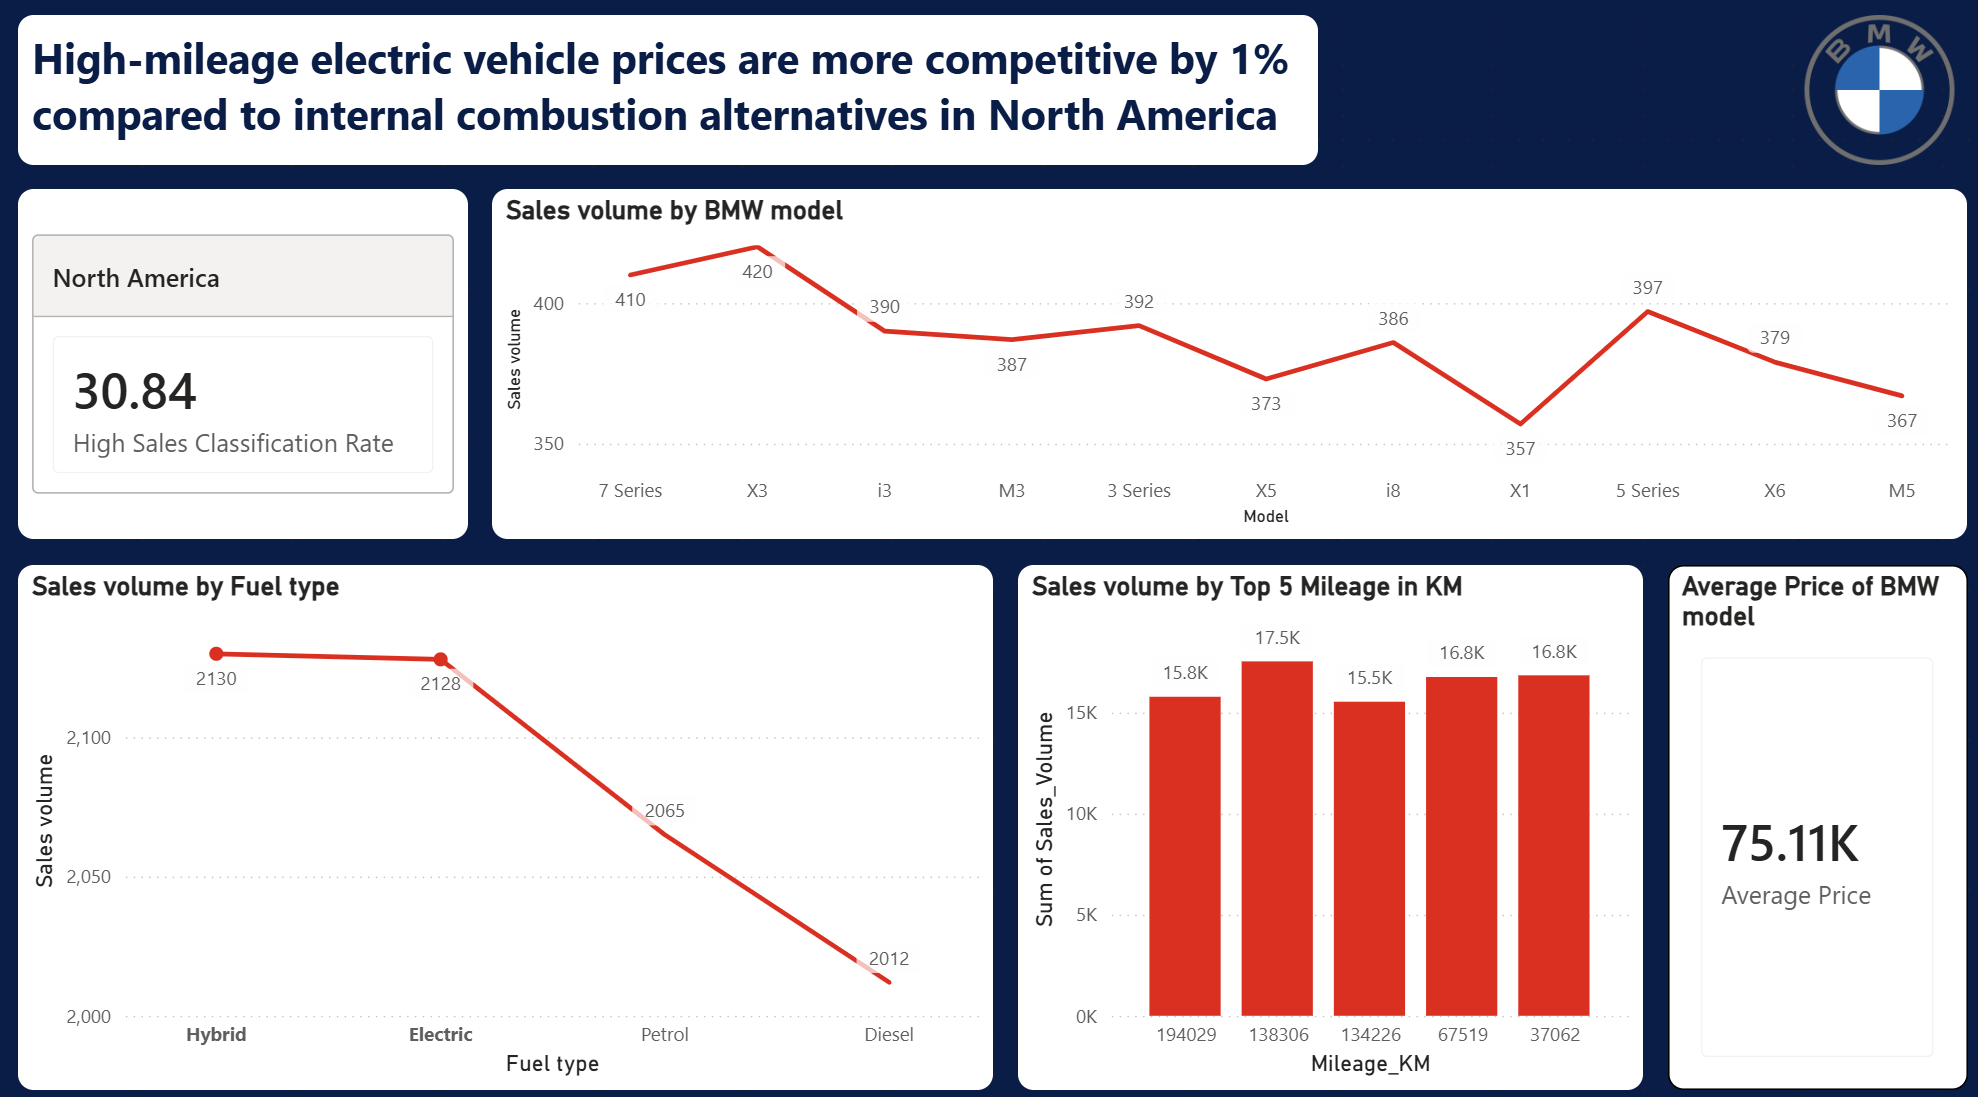

Layout of this report page (visuals, bound fields, positions):
{"tool":"powerbi","page":{"name":"Page 1","canvas":[1280,720],"ordinal":0},"visuals":[{"type":"textbox","box":[16,16,832,96],"z":0},{"type":"cardVisual","fields":{"Rows":["BMW sales data (2010-2024).Region"],"Data":["BMW sales data (2010-2024).High Sales Classification Rate"]},"box":[16,128,288,224],"z":2000},{"type":"lineStackedColumnComboChart","title":"Sales volume by BMW model","fields":{"Category":["BMW sales data (2010-2024).Model"],"Y2":["CountNonNull(BMW sales data (2010-2024).Sales_Volume)"]},"box":[320,128,944,224],"z":3000},{"type":"lineStackedColumnComboChart","title":"Sales volume by Fuel type","fields":{"Category":["BMW sales data (2010-2024).Fuel_Type"],"Y2":["CountNonNull(BMW sales data (2010-2024).Sales_Volume)"]},"box":[16,368,624,336],"z":4000},{"type":"lineStackedColumnComboChart","title":"Sales volume by Top 5 Mileage in KM","fields":{"Category":["BMW sales data (2010-2024).Mileage_KM"],"Y":["Sum(BMW sales data (2010-2024).Sales_Volume)"]},"box":[656,368,400,336],"z":5000},{"type":"image","box":[1152,16,112,96],"z":6000},{"type":"cardVisual","title":"Average Price of BMW model","fields":{"Data":["BMW sales data (2010-2024).Average Price"]},"box":[1072,368,192,336],"z":7000}]}

Visuals, with their boxes in screenshot pixels (x1, y1, x2, y2), scaled from the page's 1280x720 canvas onto the 1978x1097 screenshot:
textbox: left=25, top=24, right=1310, bottom=171
cardVisual - BMW sales data (2010-2024).Region x BMW sales data (2010-2024).High Sales Classification Rate: left=25, top=195, right=470, bottom=536
"Sales volume by BMW model" lineStackedColumnComboChart: left=494, top=195, right=1953, bottom=536
"Sales volume by Fuel type" lineStackedColumnComboChart: left=25, top=561, right=989, bottom=1073
"Sales volume by Top 5 Mileage in KM" lineStackedColumnComboChart: left=1014, top=561, right=1632, bottom=1073
image: left=1780, top=24, right=1953, bottom=171
"Average Price of BMW model" cardVisual: left=1657, top=561, right=1953, bottom=1073
